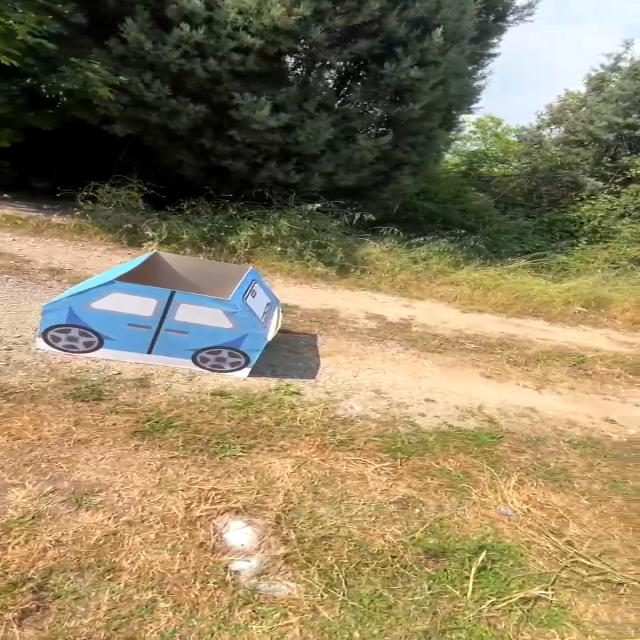blue_car: (22, 231, 310, 386)
